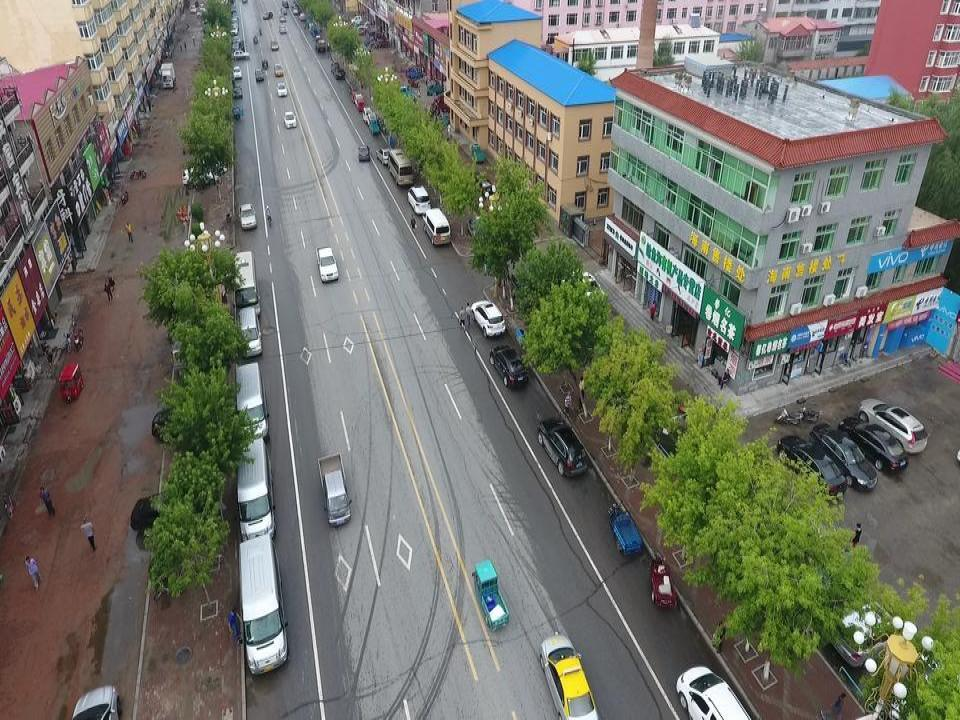car: (871, 641, 955, 720), (828, 599, 912, 669), (808, 423, 878, 492), (675, 665, 760, 720), (540, 633, 601, 708), (777, 435, 847, 498), (837, 416, 910, 473), (858, 397, 928, 455), (130, 491, 218, 537), (537, 416, 589, 476), (151, 405, 224, 444), (68, 684, 124, 720), (558, 268, 606, 309), (489, 344, 529, 388), (470, 300, 506, 337), (181, 163, 221, 189), (316, 245, 339, 283), (191, 156, 228, 176), (238, 202, 258, 230), (474, 175, 494, 198), (376, 148, 393, 165), (349, 48, 371, 59), (283, 111, 297, 128), (357, 144, 370, 161), (232, 49, 251, 60), (231, 84, 243, 99), (276, 83, 288, 97), (334, 67, 346, 80), (232, 65, 242, 80), (255, 68, 264, 83), (330, 62, 341, 74), (274, 63, 283, 77), (229, 22, 238, 34), (230, 18, 239, 30), (270, 40, 279, 51), (262, 11, 273, 20), (292, 5, 301, 15), (351, 16, 362, 24), (232, 36, 240, 47), (231, 12, 239, 23), (279, 24, 287, 33), (280, 5, 287, 15), (196, 11, 207, 17), (298, 12, 306, 20), (279, 12, 286, 21), (230, 4, 237, 13), (190, 6, 197, 14), (291, 1, 297, 7)
truck: (317, 452, 353, 527), (160, 63, 176, 88), (312, 36, 326, 52), (231, 40, 245, 56)
van: (237, 533, 288, 675), (235, 438, 277, 542), (233, 361, 270, 443), (170, 340, 230, 377), (232, 249, 262, 319), (237, 306, 262, 357), (422, 208, 451, 245), (388, 148, 414, 187), (406, 185, 431, 216), (200, 3, 207, 13), (282, 0, 289, 8)
